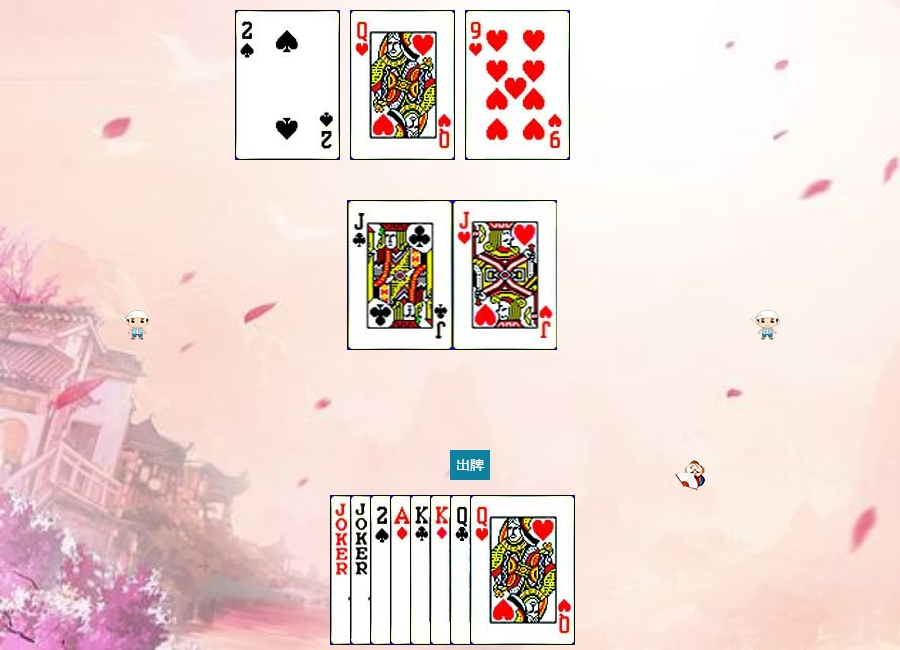11~2: (348, 200, 453, 350)
11~3: (453, 200, 558, 350)
12~2: (450, 495, 555, 645)
12~3: (350, 10, 455, 160), (470, 495, 575, 645)
13~1: (430, 495, 535, 645)
13~2: (410, 495, 515, 645)
14~1: (390, 495, 495, 645)
15~4: (235, 10, 340, 160), (370, 495, 475, 645)
17~3: (350, 495, 455, 645)
18~4: (330, 495, 435, 645)
9~3: (465, 10, 570, 160)
